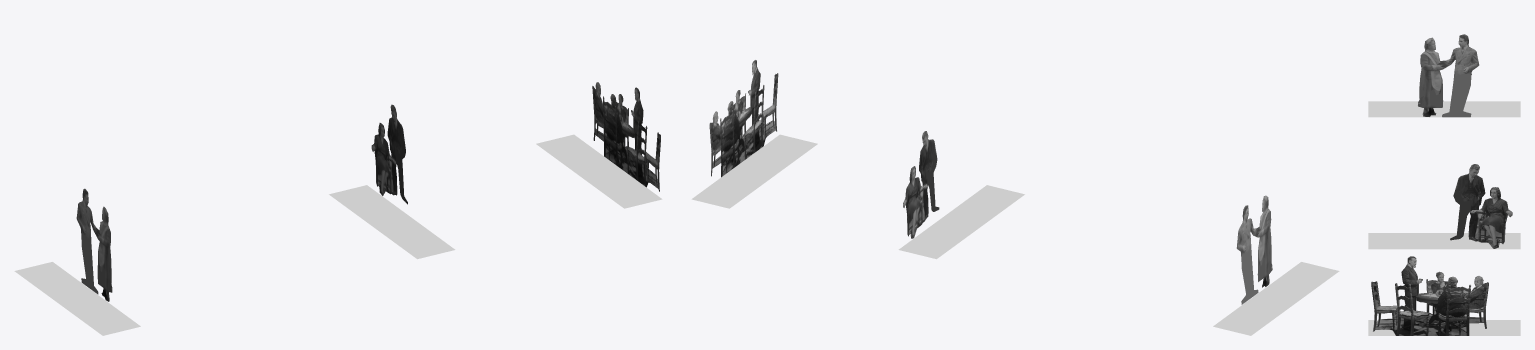
Rendered from 16471f25_base_centimetres.gltf.
The picture shows the model from 3 angles, left to right: view 1: azimuth 30°, elevation 25°; view 2: azimuth 150°, elevation 25°; view 3: azimuth 270°, elevation 25°; orthographic projection. The views are drawn at different scales.
Parts seen in each view (by area): view 1: 1 grup, 7 terra noia, 8 terra taula, Plane.001, 3 parella final, 2 parella davant; view 2: 1 grup, 7 terra noia, 8 terra taula, Plane.001, 3 parella final, 2 parella davant; view 3: 1 grup, 3 parella final, 2 parella davant, 8 terra taula, Plane.001, 7 terra noia.
Part boxes in pixels (<box>): 1 grup: <box>592,82,660,191</box>; 7 terra noia: <box>536,134,662,208</box>; 8 terra taula: <box>329,185,455,259</box>; Plane.001: <box>14,262,140,335</box>; 3 parella final: <box>76,188,112,301</box>; 2 parella davant: <box>371,104,407,204</box>; 1 grup: <box>709,60,778,177</box>; 7 terra noia: <box>691,134,817,208</box>; 8 terra taula: <box>898,185,1024,259</box>; Plane.001: <box>1213,262,1339,335</box>; 3 parella final: <box>1236,195,1272,304</box>; 2 parella davant: <box>903,131,939,238</box>; 1 grup: <box>1371,256,1488,335</box>; 3 parella final: <box>1418,34,1479,117</box>; 2 parella davant: <box>1450,164,1512,248</box>; 8 terra taula: <box>1368,233,1520,249</box>; Plane.001: <box>1368,101,1520,117</box>; 7 terra noia: <box>1368,320,1520,335</box>.
Size of the model in its own units: 1.46 by 0.3 by 0.4.
Materials: 6 (3 with a texture image).
